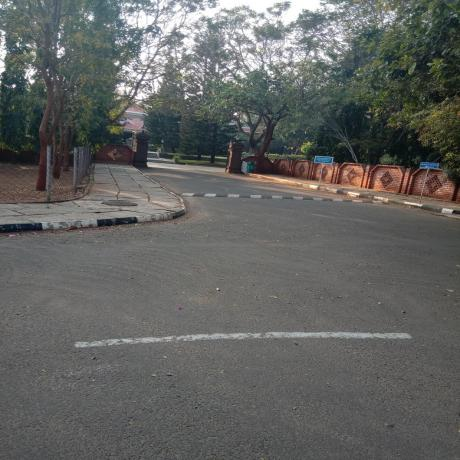Speed Bump: (178, 190, 391, 205)
